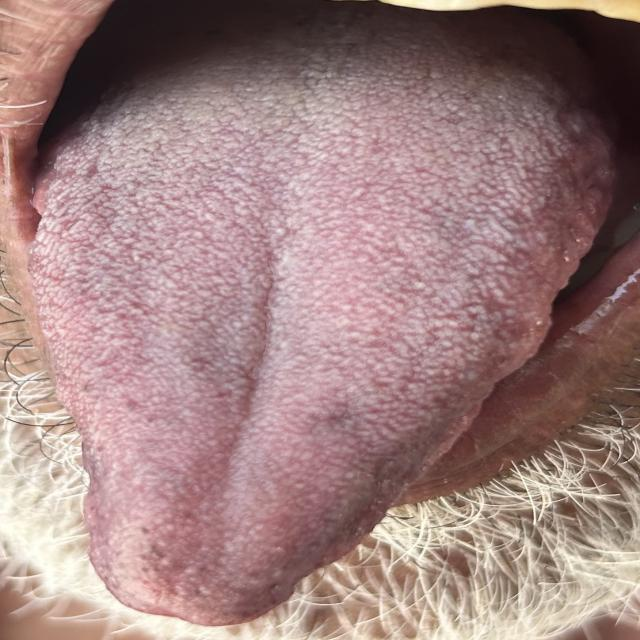leukoplakia-like-detection: (38, 54, 589, 575)
processing_area: (44, 48, 607, 612)
